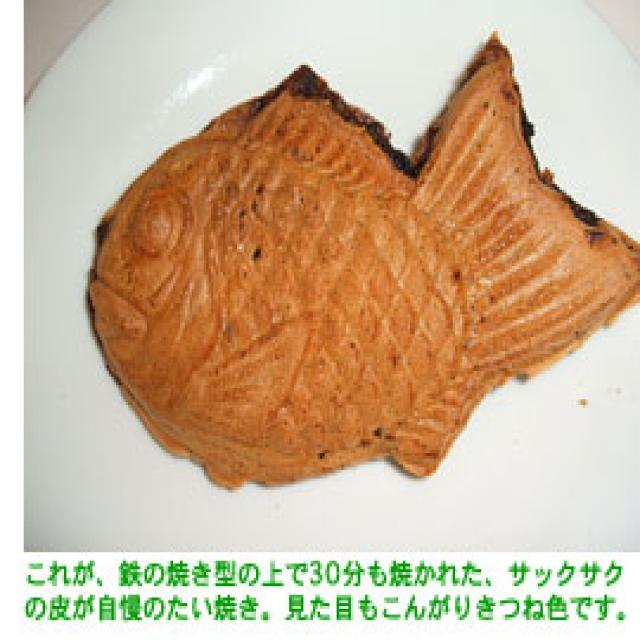熟制海鲜: (85, 25, 640, 493)
